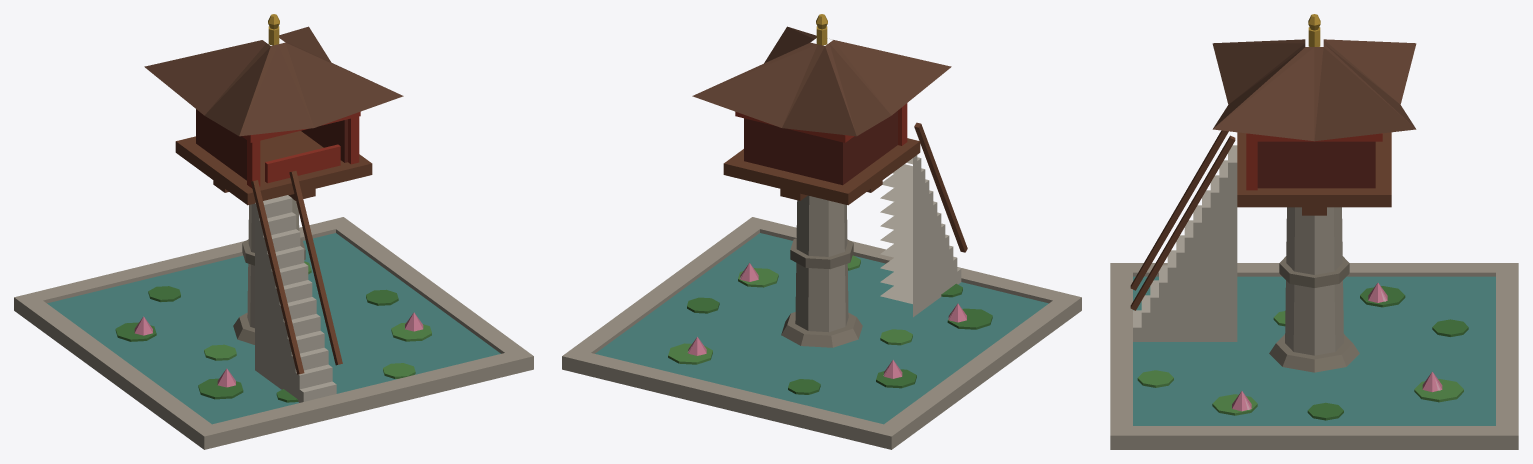
The model's file is pagodeUnPilier.glb.
3 views of the same model, side by side, from view 1: azimuth 30°, elevation 25°; view 2: azimuth 150°, elevation 25°; view 3: azimuth 270°, elevation 25° (orthographic). The views are drawn at different scales.
Parts seen in each view (by area): view 1: pagodeUnPilier; view 2: pagodeUnPilier; view 3: pagodeUnPilier.
Part boxes in pixels (left/top/right/bottom): pagodeUnPilier: left=14, top=14, right=533, bottom=449; pagodeUnPilier: left=562, top=14, right=1081, bottom=449; pagodeUnPilier: left=1110, top=14, right=1518, bottom=449.
Size of the model in its own units: 1.8 by 1.69 by 1.8.
